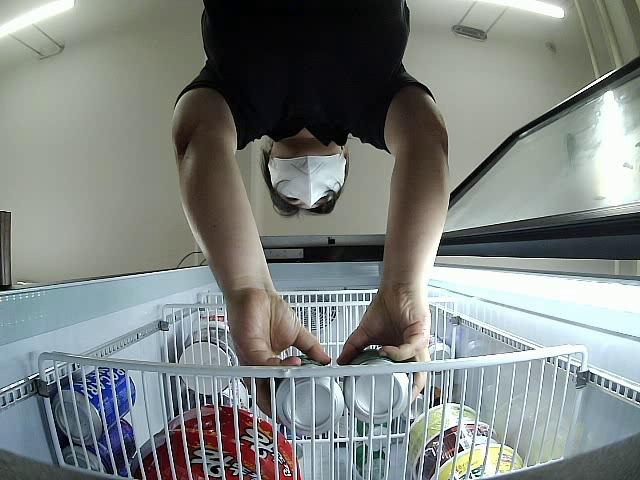00_hand: (225, 286, 331, 417), (337, 294, 431, 403)
12_chilsungCider: (267, 355, 343, 435), (342, 347, 410, 423)
